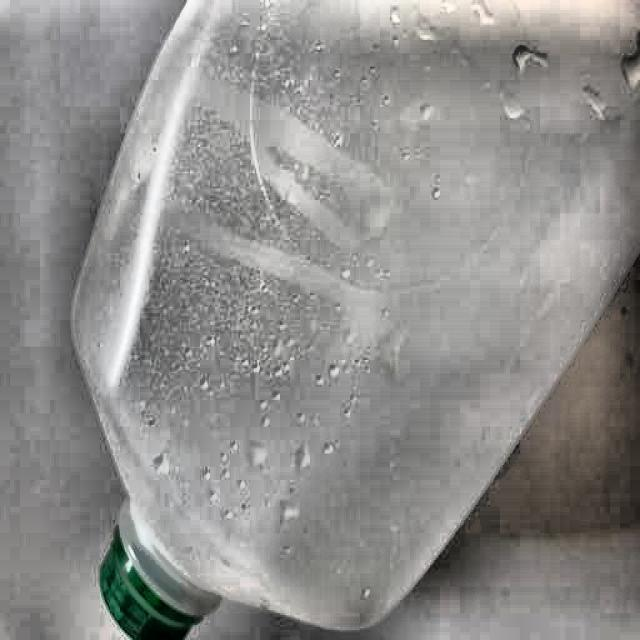plastic: (67, 0, 512, 634)
